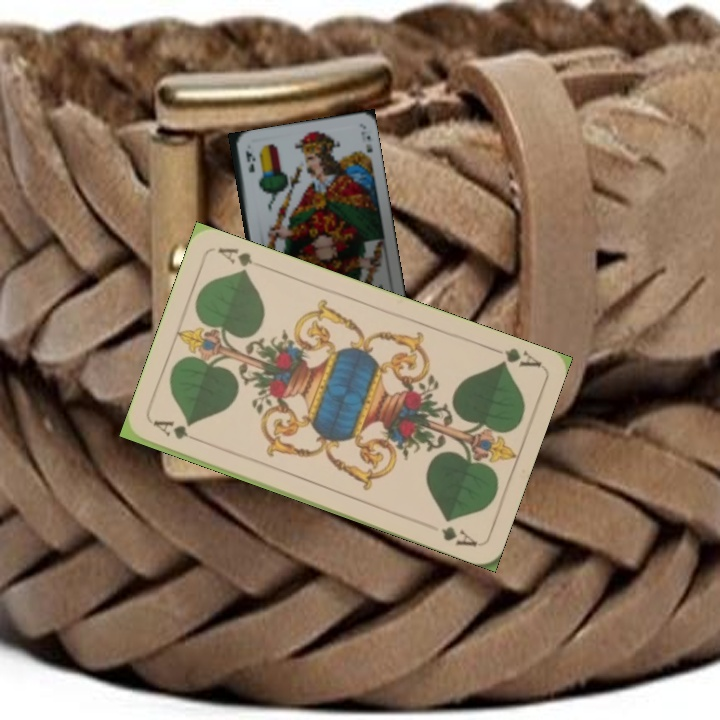EK: (242, 146, 257, 175)
GA: (150, 416, 206, 446), (485, 343, 543, 370)
